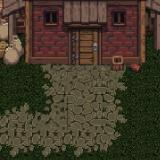Obstacle: (0, 0, 159, 99)
